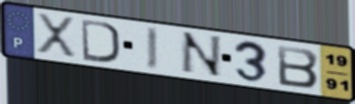3: (232, 38, 274, 85)
B: (275, 43, 322, 90)
D: (79, 17, 122, 65)
I: (144, 24, 160, 72)
N: (178, 30, 225, 79)
X: (34, 11, 78, 61)
